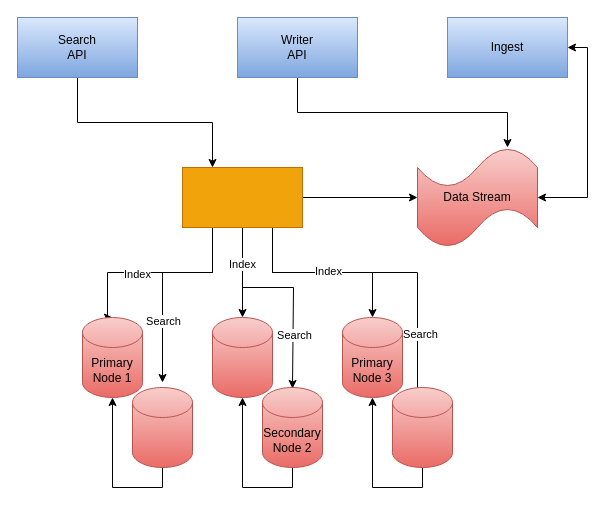
This 614x513 diagram has some shape labels left out. The box of each missing label's shape, as (x1, y1, x2, y2) in pixels:
Index Coordinator: (182, 166, 302, 228)
Primary Node 2: (212, 316, 272, 398)
Secondary Node 1: (132, 386, 192, 468)
Secondary Node 3: (392, 386, 452, 468)
